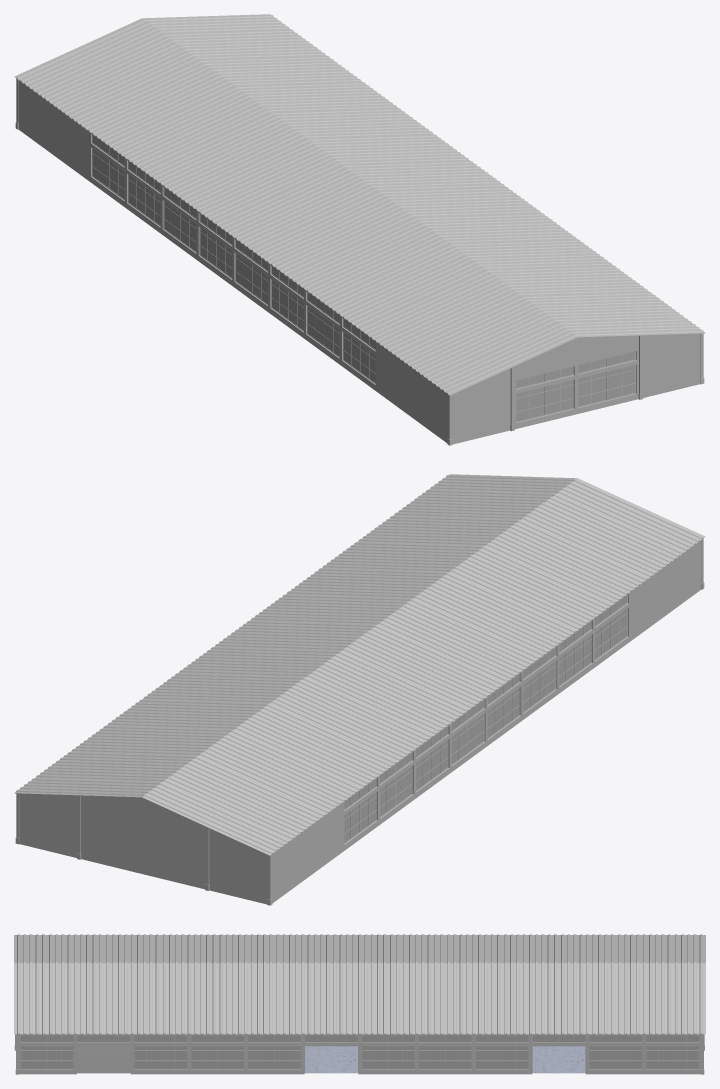
File: warehouse_without_pillars.fbx
3 renders of one model, top to bottom at view 1: azimuth 30°, elevation 25°; view 2: azimuth 150°, elevation 25°; view 3: azimuth 270°, elevation 25°, orthographic. The views are drawn at different scales.
Visible parts, largest first — view 1: columns001; view 2: columns001; view 3: columns001.
Boxes of the visible parts, x1,y1,x2,y2 form: columns001: (14,14,705,445); columns001: (14,474,705,905); columns001: (14,934,705,1074).
Size of the model in its own units: 3155 by 930 by 9301.
